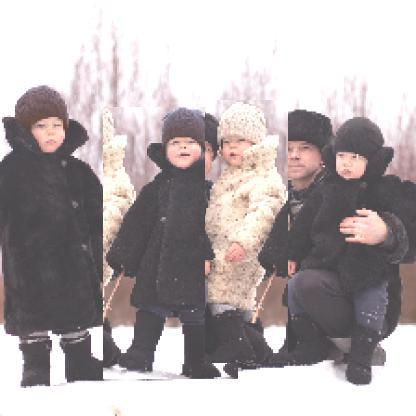child: (104, 108, 240, 381), (280, 116, 416, 387), (1, 85, 120, 390), (206, 101, 290, 365)
